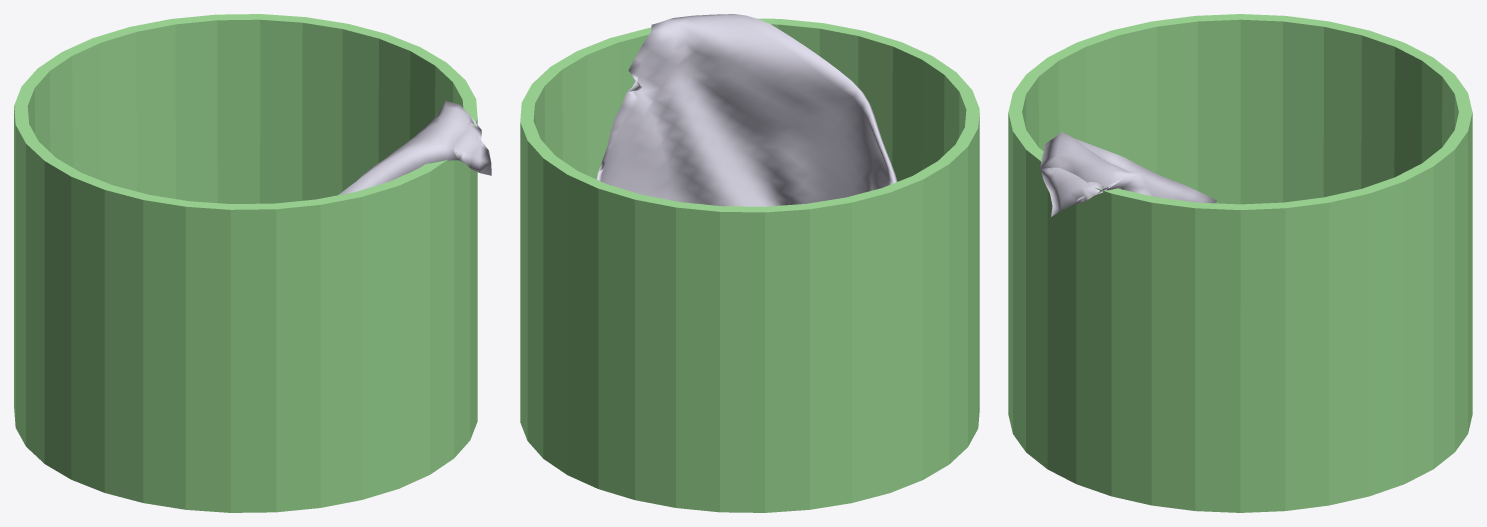
The model's file is boite_tissus_t.fbx.
3 renders of one model, left to right at view 1: azimuth 30°, elevation 25°; view 2: azimuth 150°, elevation 25°; view 3: azimuth 270°, elevation 25°, orthographic.
Parts seen in each view (by area): view 1: Cylinder; view 2: Cylinder; view 3: Cylinder.
Boxes of the visible parts, x1=… form: Cylinder: x1=14, y1=14, x2=491, y2=512; Cylinder: x1=520, y1=14, x2=979, y2=512; Cylinder: x1=1008, y1=14, x2=1472, y2=512.
Size of the model in its own units: 73.23 by 55.05 by 73.23.
